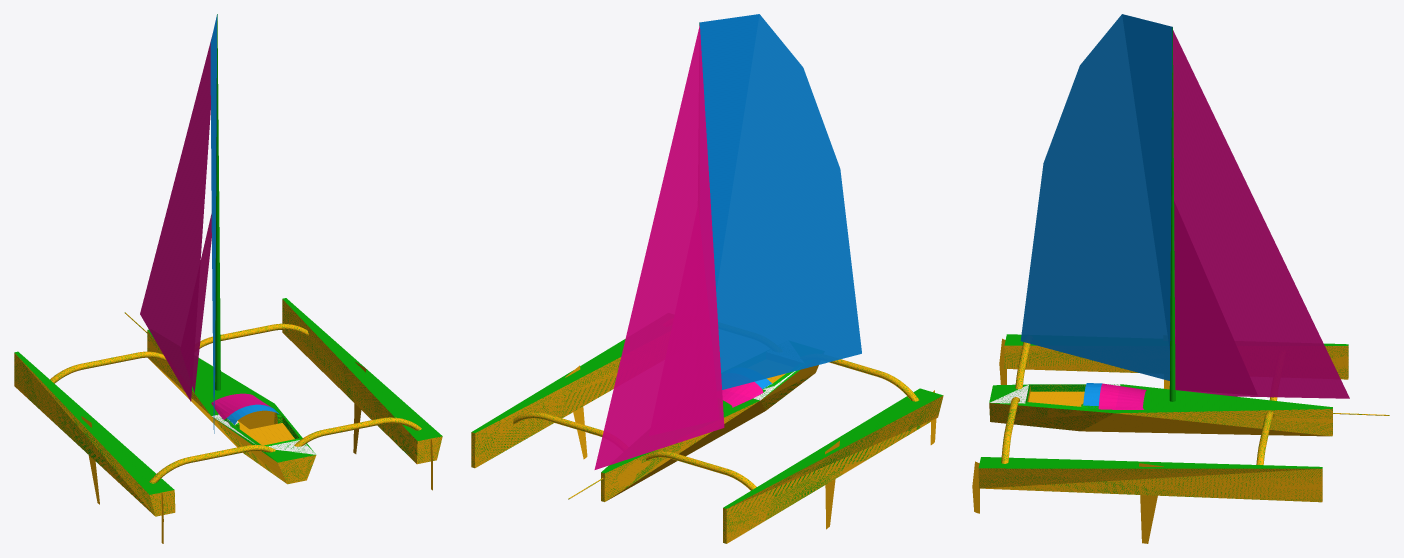
Rendered from TRIMARAN_GENOIS_TRIBORD.dae.
3 renders of one model, left to right at view 1: azimuth 30°, elevation 25°; view 2: azimuth 150°, elevation 25°; view 3: azimuth 270°, elevation 25°, orthographic. The views are drawn at different scales.
Parts seen in each view (by area): view 1: SketchUp (×18); view 2: SketchUp (×13); view 3: SketchUp (×15).
Boxes of the visible parts, x1,y1,x2,y2 form: SketchUp (×18): [14, 14, 442, 516]; SketchUp (×13): [471, 14, 943, 543]; SketchUp (×15): [978, 14, 1349, 543].
Size of the model in its own units: 90746 by 111674 by 134945.
